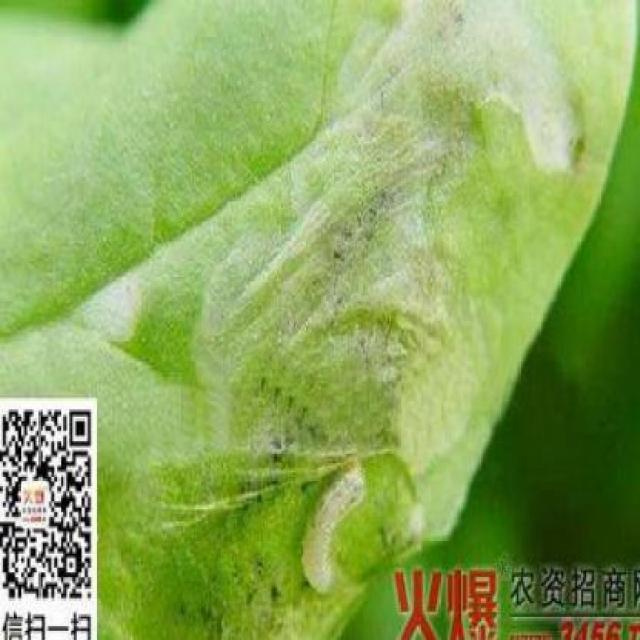whorl-maggot: (298, 449, 376, 620)
